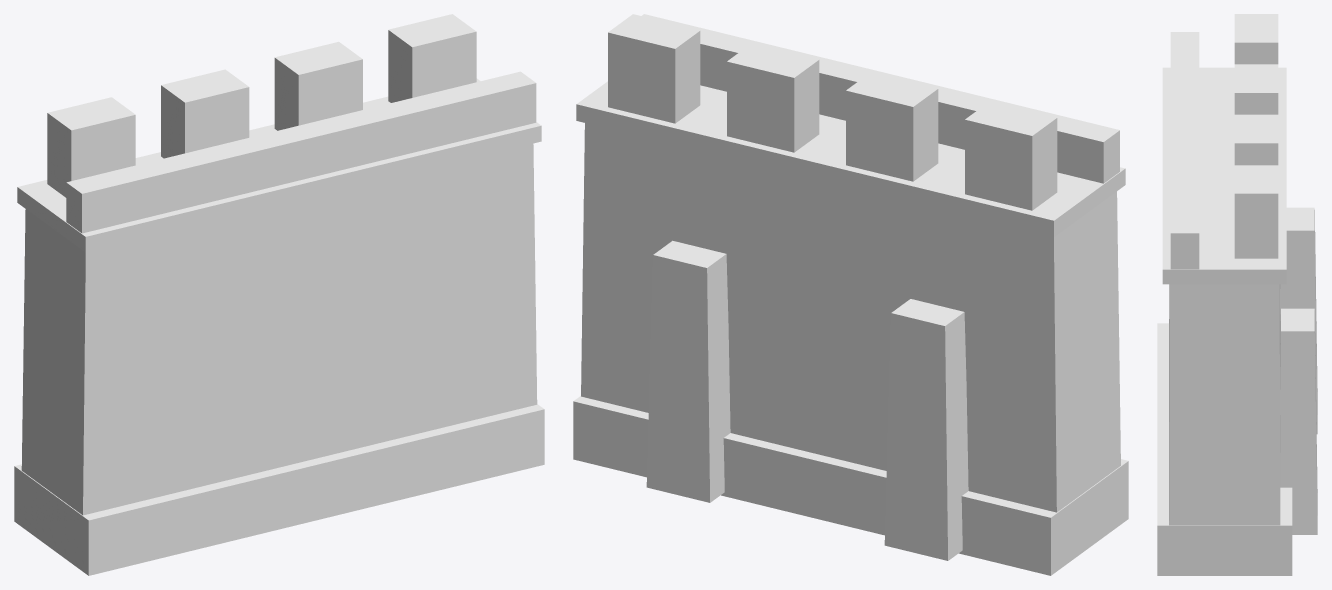
Rendered from aydor_wall.glb.
3 renders of one model, left to right at view 1: azimuth 30°, elevation 25°; view 2: azimuth 150°, elevation 25°; view 3: azimuth 270°, elevation 25°, orthographic. The views are drawn at different scales.
Visible parts, largest first — view 1: aydor_wall; view 2: aydor_wall; view 3: aydor_wall.
Part boxes in pixels (left/top/right/bottom): aydor_wall: left=14, top=14, right=544, bottom=575; aydor_wall: left=573, top=14, right=1128, bottom=575; aydor_wall: left=1157, top=14, right=1317, bottom=575.
Size of the model in its own units: 6.02 by 5.15 by 2.02.
Materials: 1 (1 with a texture image).
